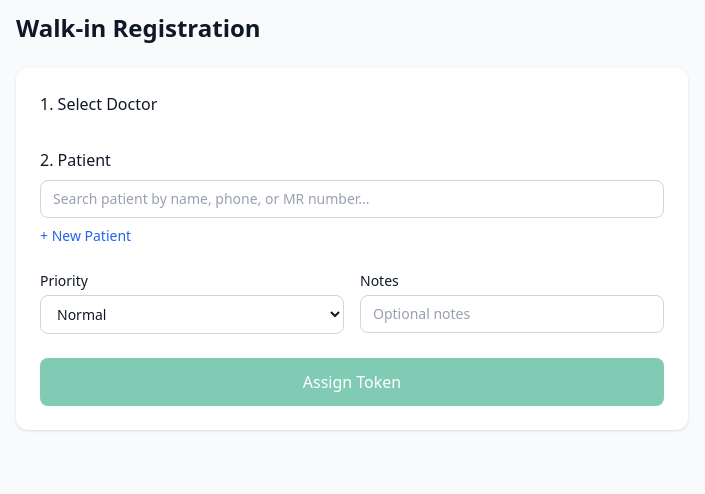
Test: WalkInPage › patient search >= 2 chars GETs /patients with encoded query and renders suggestions
Type "Aa" into the field with placeholder "Search patient by name, phone, or MR number..." at (352, 199), box [40, 180, 664, 218]
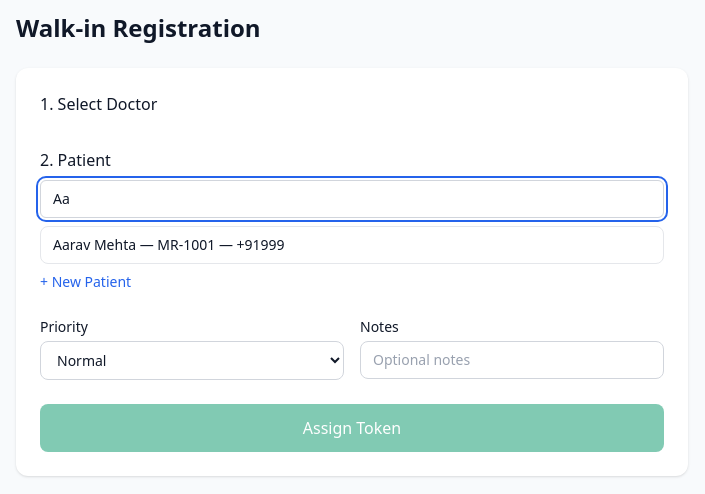
Result: the button "Aarav Mehta — MR-1001 — +91999" is shown at [41, 227, 663, 263]
